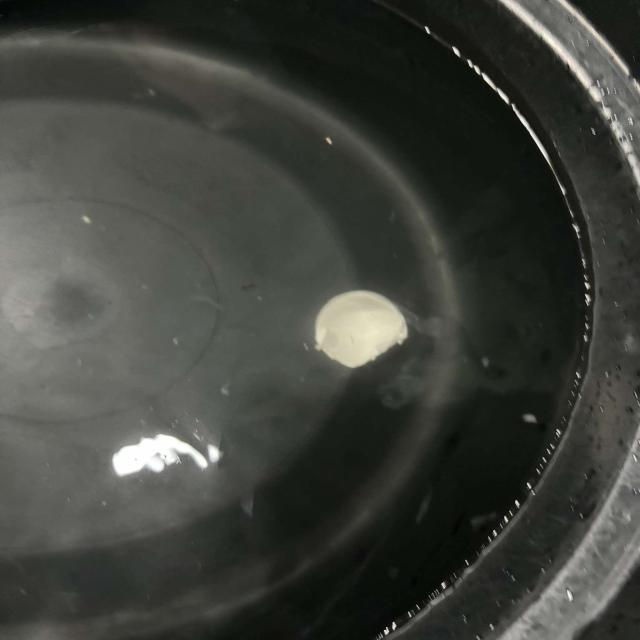Eggshell: (314, 291, 408, 369)
